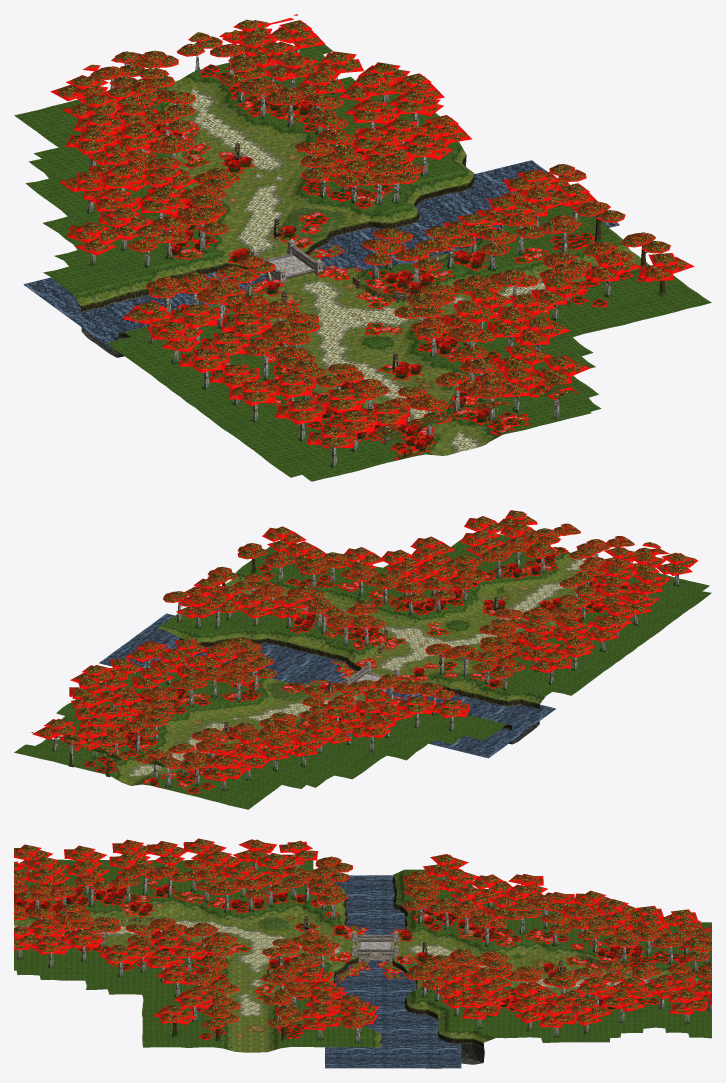
File: WestBoseHighway2.obj
3 renders of one model, top to bottom at view 1: azimuth 30°, elevation 25°; view 2: azimuth 150°, elevation 25°; view 3: azimuth 270°, elevation 25°, orthographic. The views are drawn at different scales.
Parts seen in each view (by area): view 1: Object.012; view 2: Object.012; view 3: Object.012.
Boxes of the visible parts, left/top/right/bottom form: Object.012: left=14, top=14, right=711, bottom=481; Object.012: left=14, top=510, right=711, bottom=809; Object.012: left=14, top=838, right=711, bottom=1068.
Size of the model in its own units: 82.09 by 11.28 by 123.
20 materials, 20 textured.
